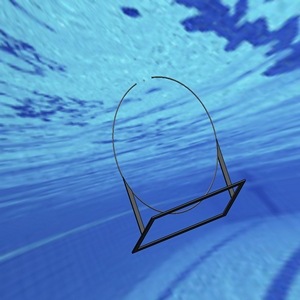circle: (109, 71, 248, 254)
